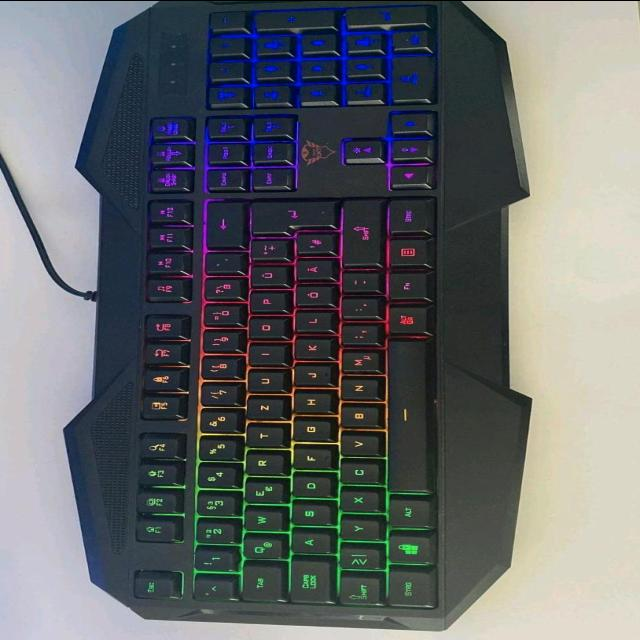0: (197, 305, 239, 327)
1: (191, 547, 235, 571)
2: (191, 521, 235, 546)
3: (191, 493, 235, 518)
4: (192, 465, 234, 489)
5: (194, 438, 236, 462)
6: (195, 410, 237, 434)
7: (195, 384, 236, 408)
8: (195, 358, 237, 380)
9: (197, 331, 238, 353)
a: (286, 533, 329, 555)
accent: (199, 254, 239, 275)
ae: (290, 261, 331, 281)
alt-left: (383, 500, 429, 529)
altgr-right: (383, 308, 426, 336)
b: (335, 405, 378, 429)
c: (335, 463, 377, 486)
caret: (191, 578, 235, 600)
comma: (335, 327, 377, 347)
d: (287, 477, 330, 499)
del: (201, 204, 242, 250)
e: (239, 481, 283, 505)
enter: (245, 202, 335, 237)
f: (287, 449, 329, 470)
g: (287, 421, 329, 443)
h: (288, 393, 329, 415)
hash: (291, 235, 333, 255)
i: (243, 346, 283, 367)
j: (288, 366, 329, 387)
k: (289, 339, 329, 360)
keyboard: (92, 0, 459, 632)
l: (290, 313, 330, 333)
less: (334, 548, 379, 572)
m: (336, 352, 378, 374)
minus: (337, 273, 377, 294)
n: (335, 379, 376, 401)
o: (244, 319, 282, 340)
oe: (290, 286, 332, 308)
p: (244, 293, 284, 314)
plus: (245, 241, 287, 261)
point: (336, 299, 376, 320)
q: (237, 536, 283, 562)
r: (240, 453, 282, 477)
s: (287, 505, 330, 527)
shift-left: (335, 578, 379, 608)
shift-lock: (286, 560, 330, 604)
shift-right: (337, 202, 380, 268)
space: (383, 340, 429, 494)
ss: (199, 279, 241, 301)
strg-left: (382, 572, 432, 610)
strg-right: (384, 200, 430, 236)
t: (240, 427, 280, 448)
tab: (237, 567, 281, 603)
u: (242, 372, 283, 394)
ue: (245, 267, 287, 288)
v: (335, 435, 377, 457)
w: (239, 511, 281, 533)
x: (335, 491, 377, 513)
y: (335, 519, 378, 541)
z: (242, 399, 282, 421)
